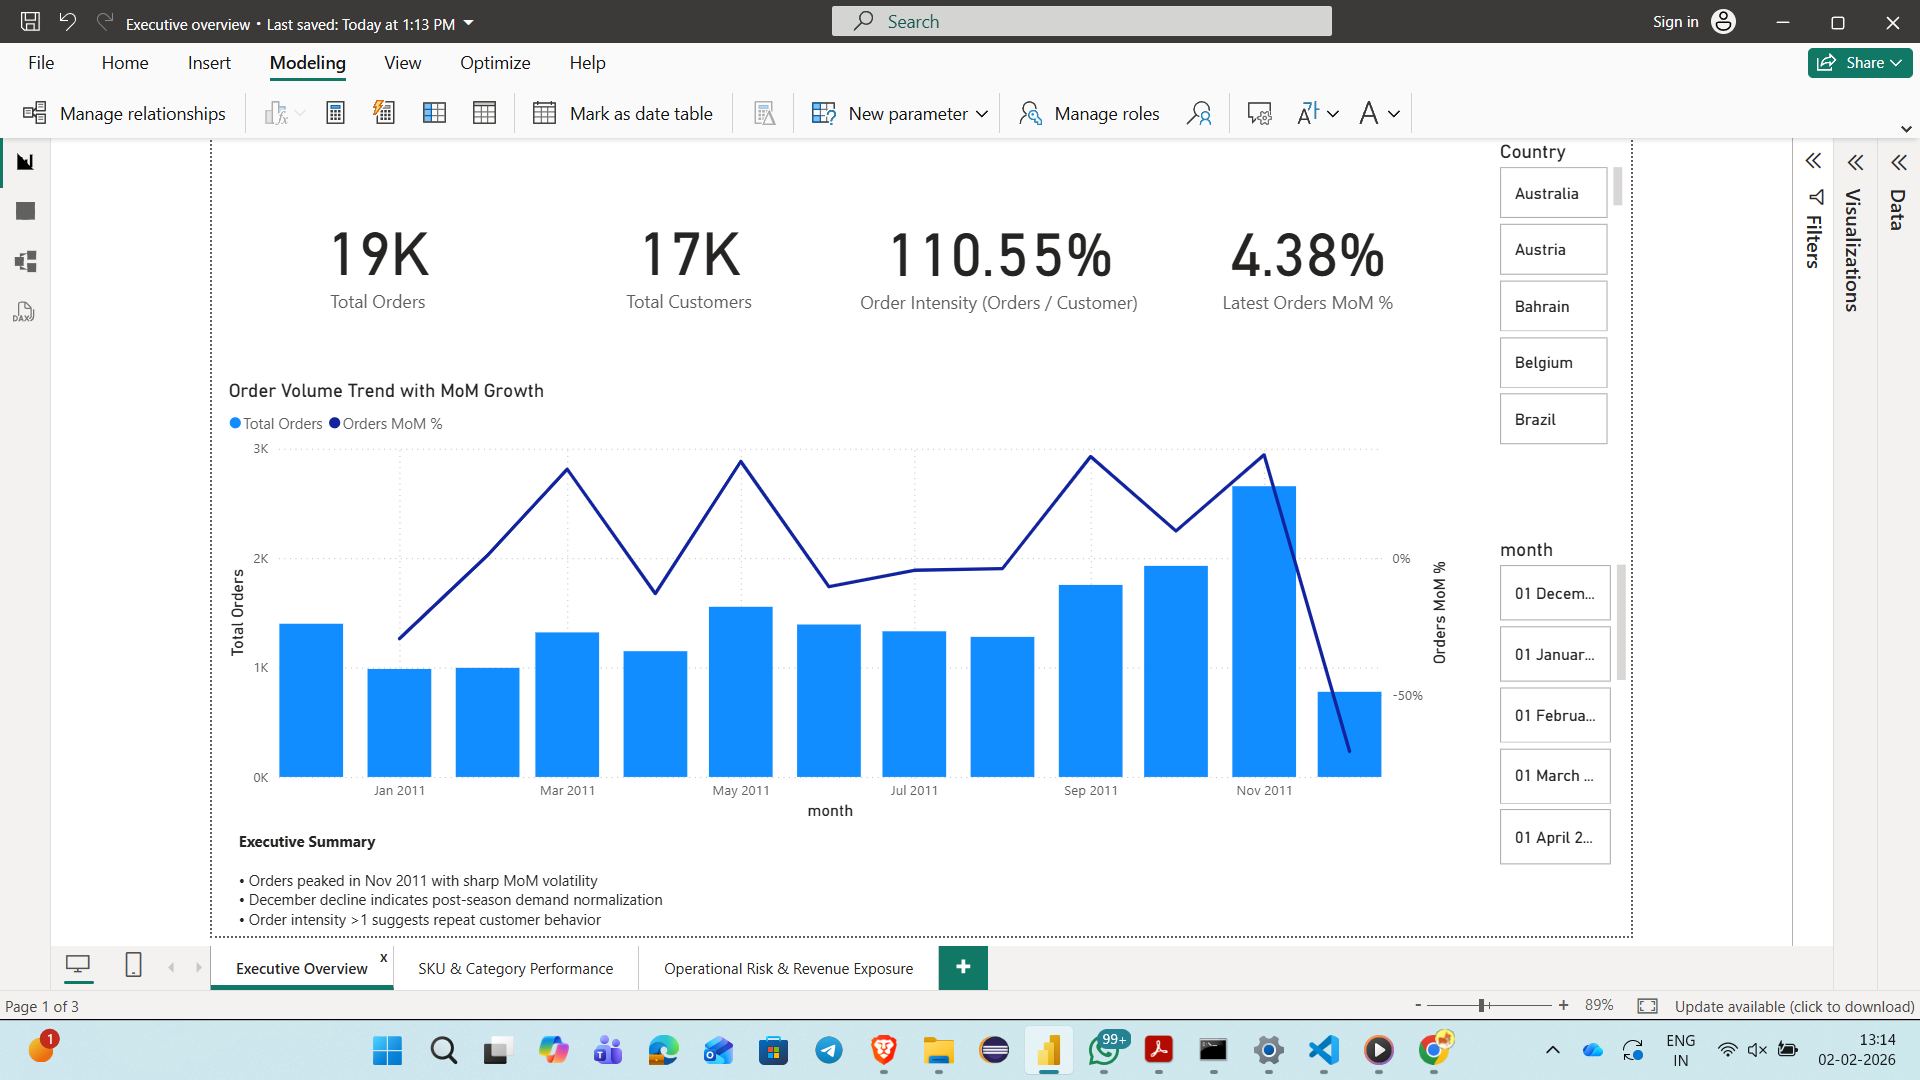

Layout of this report page (visuals, bound fields, positions):
{"tool":"powerbi","page":{"name":"Executive Overview","canvas":[1280,720],"ordinal":0},"visuals":[{"type":"card","fields":{"Values":["kpi_marketplace_performance.Total Orders"]},"box":[10.5,0,279.1,217.4],"z":0},{"type":"card","fields":{"Values":["kpi_marketplace_performance.Total Customers"]},"box":[290.7,0,279.1,217.4],"z":1000},{"type":"card","fields":{"Values":["kpi_marketplace_performance.Conversion Rate"]},"box":[569.8,1.2,279.1,216.3],"z":2000},{"type":"card","fields":{"Values":["kpi_marketplace_performance.Orders MoM %"]},"box":[848.8,2.3,279.1,215.1],"z":3000},{"type":"lineClusteredColumnComboChart","title":"Order Volume Trend with MoM Growth","fields":{"Category":["kpi_marketplace_performance.month"],"Y":["kpi_marketplace_performance.Total Orders"],"Y2":["kpi_marketplace_performance.Orders MoM %"]},"box":[10.5,217.4,1109.3,402.3],"z":4000},{"type":"advancedSlicerVisual","fields":{"Values":["kpi_marketplace_performance.Country"]},"box":[1157,2.3,120.9,280.2],"z":5000},{"type":"advancedSlicerVisual","fields":{"Values":["kpi_marketplace_performance.month"]},"box":[1157,360.5,123.3,300],"z":6000},{"type":"textbox","box":[18.6,619.8,1087.2,100],"z":7000}]}

Visuals, with their boxes on the page's 1280x720 design canvas (x1, y1, x2, y2). These are canvas units, not pixel positions in the 1920x1080 screenshot, which may show the page scaled, cropped or inside an application window:
card - kpi_marketplace_performance.Total Orders: pyautogui.locateOnScreen(10, 0, 290, 217)
card - kpi_marketplace_performance.Total Customers: pyautogui.locateOnScreen(291, 0, 570, 217)
card - kpi_marketplace_performance.Conversion Rate: pyautogui.locateOnScreen(570, 1, 849, 218)
card - kpi_marketplace_performance.Orders MoM %: pyautogui.locateOnScreen(849, 2, 1128, 217)
"Order Volume Trend with MoM Growth" lineClusteredColumnComboChart: pyautogui.locateOnScreen(10, 217, 1120, 620)
advancedSlicerVisual - kpi_marketplace_performance.Country: pyautogui.locateOnScreen(1157, 2, 1278, 282)
advancedSlicerVisual - kpi_marketplace_performance.month: pyautogui.locateOnScreen(1157, 360, 1280, 660)
textbox: pyautogui.locateOnScreen(19, 620, 1106, 720)
